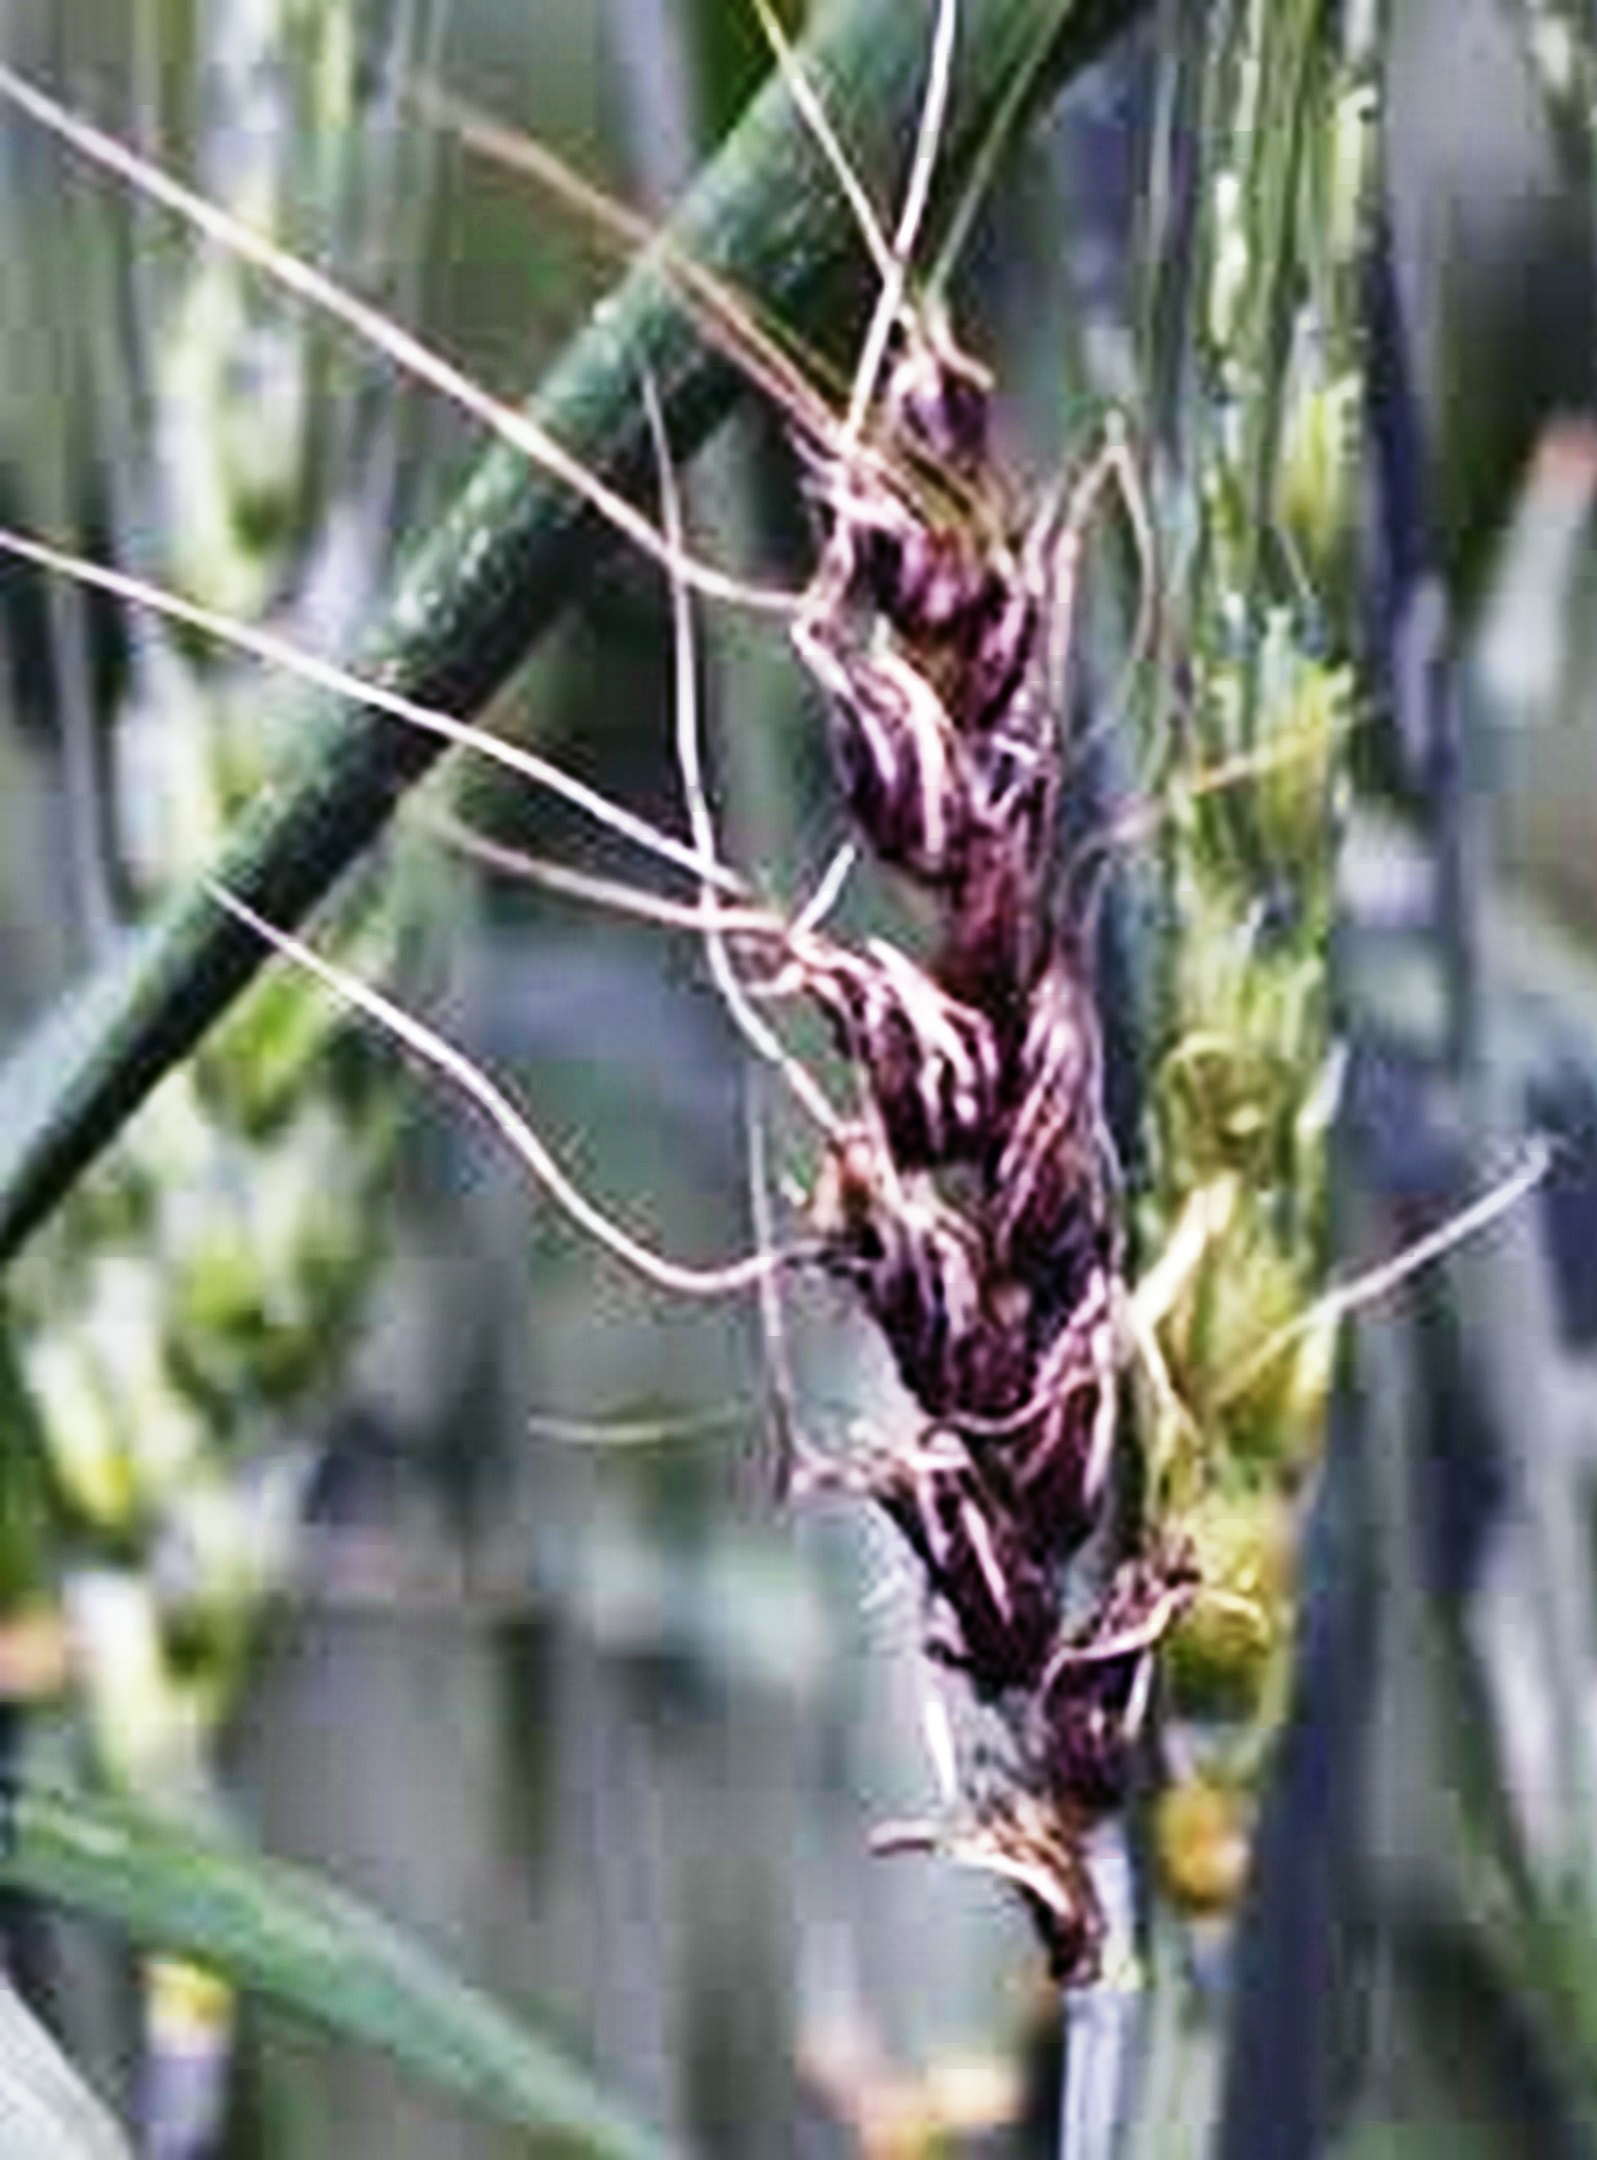Wheat Loose Smut: (708, 317, 1184, 1873)
